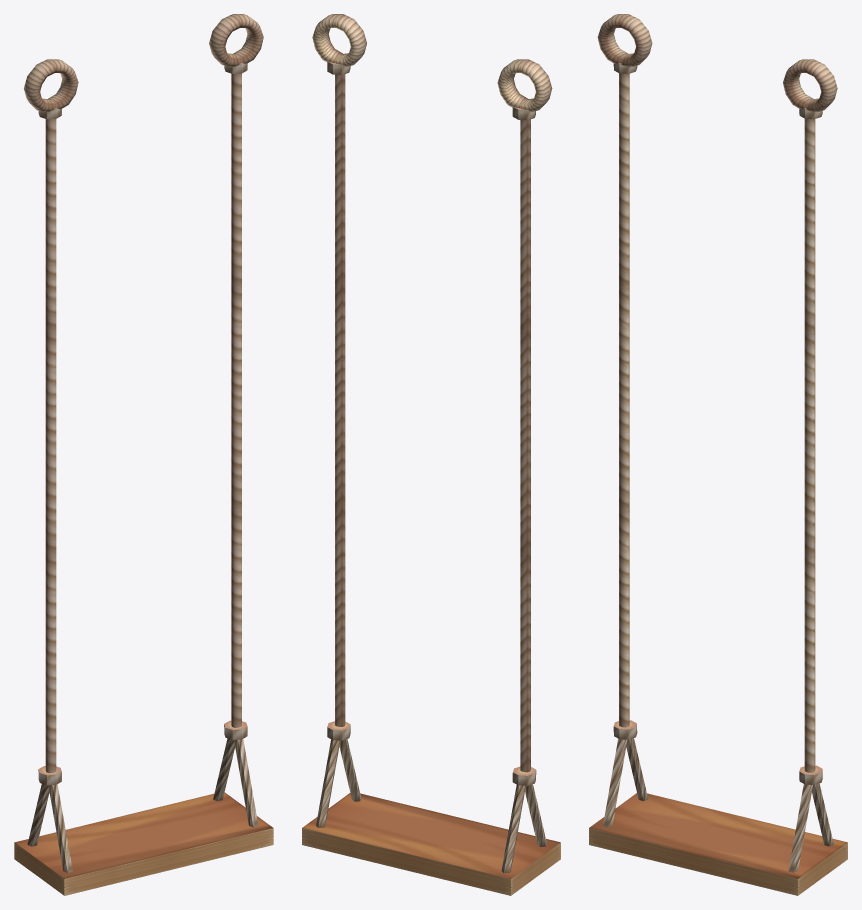
File: CBS_Obj_Swing.FBX
The picture shows the model from 3 angles, left to right: view 1: azimuth 30°, elevation 25°; view 2: azimuth 150°, elevation 25°; view 3: azimuth 330°, elevation 25°; orthographic projection.
Parts seen in each view (by area): view 1: CBS_Obj_Swing; view 2: CBS_Obj_Swing; view 3: CBS_Obj_Swing.
Part boxes in pixels (x1,y1,x2,y2): CBS_Obj_Swing: [14, 14, 273, 895]; CBS_Obj_Swing: [302, 14, 560, 895]; CBS_Obj_Swing: [589, 14, 847, 895].
Size of the model in its own units: 79.62 by 263 by 29.28.
